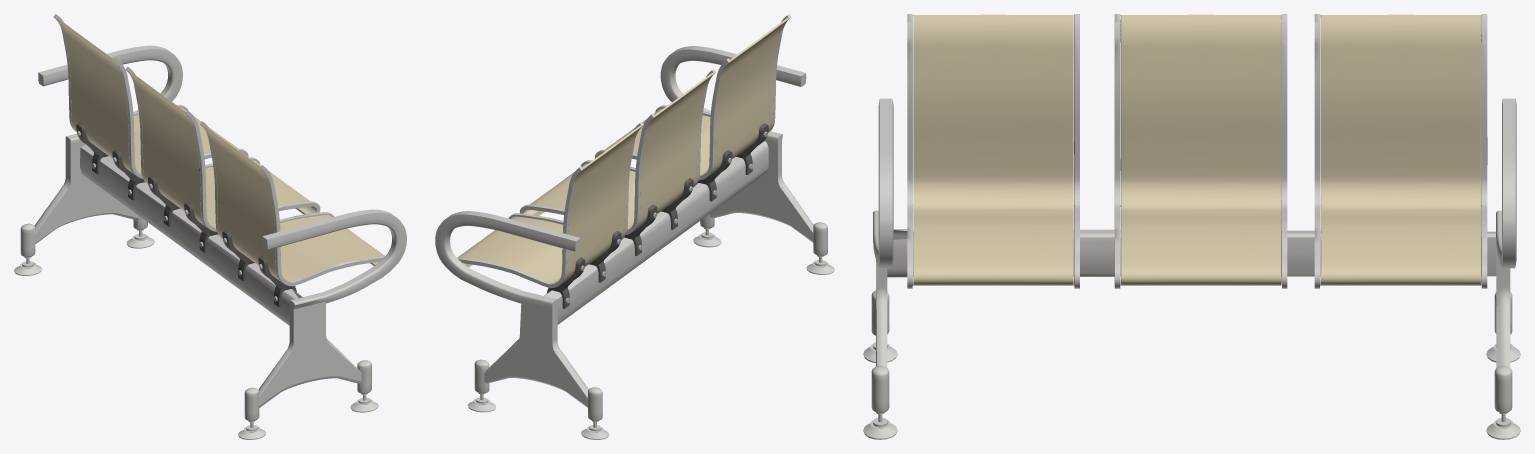
The model's file is sillas-espera.glb.
3 renders of one model, left to right at view 1: azimuth 30°, elevation 25°; view 2: azimuth 150°, elevation 25°; view 3: azimuth 270°, elevation 25°, orthographic. The views are drawn at different scales.
Visible parts, largest first — view 1: waiting chair; view 2: waiting chair; view 3: waiting chair.
Part boxes in pixels (bbox=[...]): waiting chair: bbox=[14, 14, 406, 439]; waiting chair: bbox=[435, 14, 834, 439]; waiting chair: bbox=[863, 14, 1520, 439].
Size of the model in its own units: 3.11 by 4.55 by 7.61.
4 materials, 3 textured.
